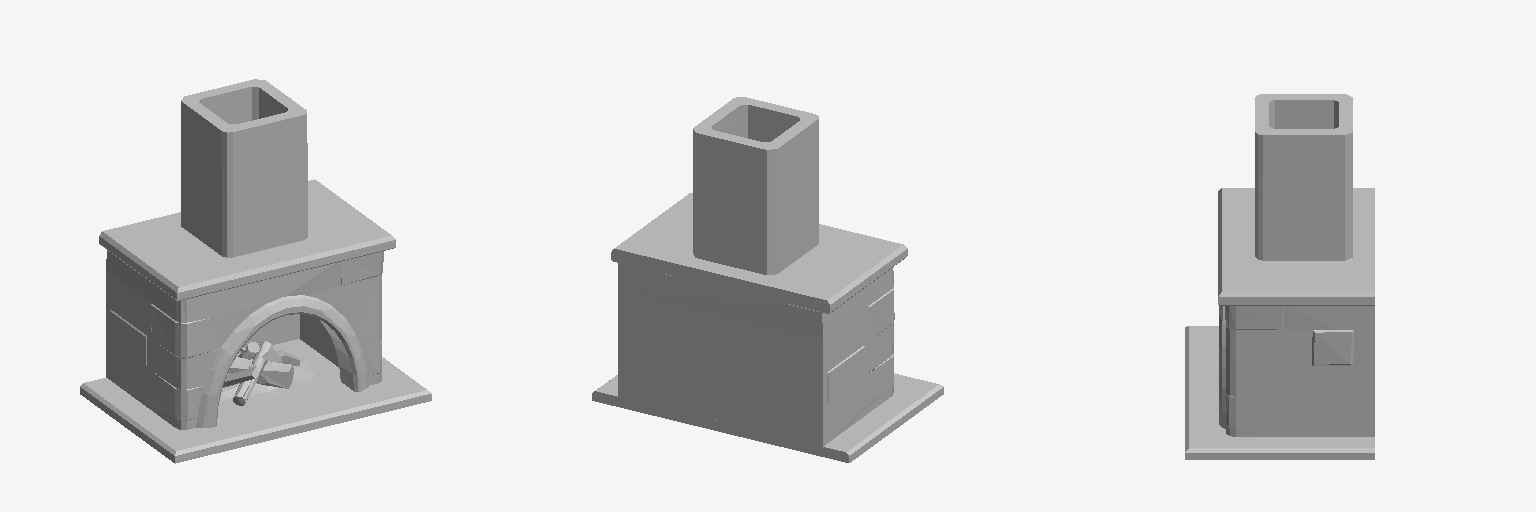
File: fireplace_half.obj
3 renders of one model, left to right at view 1: azimuth 30°, elevation 25°; view 2: azimuth 150°, elevation 25°; view 3: azimuth 270°, elevation 25°, orthographic.
Visible parts, largest first — view 1: fireplace_noFireWood, firewood_separate; view 2: fireplace_noFireWood; view 3: fireplace_noFireWood.
Part boxes in pixels (bbox=[...]): fireplace_noFireWood: bbox=[80, 79, 431, 463]; firewood_separate: bbox=[223, 341, 299, 405]; fireplace_noFireWood: bbox=[592, 97, 943, 462]; fireplace_noFireWood: bbox=[1185, 94, 1374, 459].
Size of the model in its own units: 1.91 by 2.01 by 1.22.